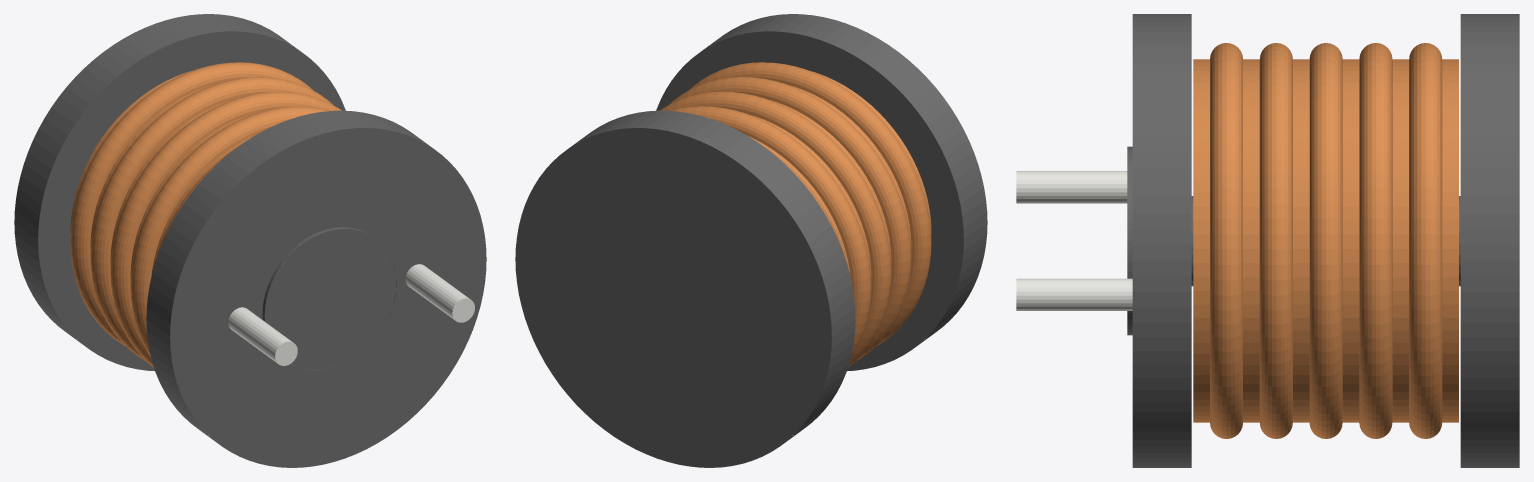
Rendered from L_Radial_D12.5mm_P7.00mm_Fastron_09HCP.glb.
3 views of the same model, side by side, from view 1: azimuth 30°, elevation 25°; view 2: azimuth 150°, elevation 25°; view 3: azimuth 270°, elevation 25° (orthographic). The views are drawn at different scales.
Parts seen in each view (by area): view 1: Shape_IndexedFaceSet.009, Shape_IndexedFaceSet.024, Shape_IndexedFaceSet.016, Shape_IndexedFaceSet.007, Shape_IndexedFaceSet.025, Shape_IndexedFaceSet.020, Shape_IndexedFaceSet.018, Shape_IndexedFaceSet.010, Shape_IndexedFaceSet.006, Shape_IndexedFaceSet.011, Shape_IndexedFaceSet.013, Shape_IndexedFaceSet.019 (+5 smaller); view 2: Shape_IndexedFaceSet.026, Shape_IndexedFaceSet.005, Shape_IndexedFaceSet.025, Shape_IndexedFaceSet.007, Shape_IndexedFaceSet.002, Shape_IndexedFaceSet.006, Shape_IndexedFaceSet.010, Shape_IndexedFaceSet.018, Shape_IndexedFaceSet.004, Shape_IndexedFaceSet.008, Shape_IndexedFaceSet.014, Shape_IndexedFaceSet (+1 smaller); view 3: Shape_IndexedFaceSet.007, Shape_IndexedFaceSet.025, Shape_IndexedFaceSet.010, Shape_IndexedFaceSet.006, Shape_IndexedFaceSet.018, Shape_IndexedFaceSet.020, Shape_IndexedFaceSet.002, Shape_IndexedFaceSet.014, Shape_IndexedFaceSet, Shape_IndexedFaceSet.004, Shape_IndexedFaceSet.008, Shape_IndexedFaceSet.019 (+4 smaller).
Boxes of the visible parts, left/top/right/bottom form: Shape_IndexedFaceSet.009: left=170, top=128, right=486, bottom=467; Shape_IndexedFaceSet.024: left=38, top=31, right=345, bottom=370; Shape_IndexedFaceSet.016: left=264, top=229, right=395, bottom=370; Shape_IndexedFaceSet.007: left=146, top=110, right=486, bottom=467; Shape_IndexedFaceSet.025: left=14, top=14, right=343, bottom=371; Shape_IndexedFaceSet.020: left=70, top=62, right=313, bottom=345; Shape_IndexedFaceSet.018: left=90, top=77, right=332, bottom=360; Shape_IndexedFaceSet.010: left=110, top=91, right=341, bottom=367; Shape_IndexedFaceSet.006: left=130, top=106, right=331, bottom=357; Shape_IndexedFaceSet.011: left=228, top=307, right=292, bottom=363; Shape_IndexedFaceSet.013: left=405, top=264, right=469, bottom=319; Shape_IndexedFaceSet.019: left=90, top=86, right=209, bottom=248; Shape_IndexedFaceSet.026: left=515, top=128, right=831, bottom=467; Shape_IndexedFaceSet.005: left=656, top=31, right=963, bottom=370; Shape_IndexedFaceSet.025: left=515, top=110, right=855, bottom=467; Shape_IndexedFaceSet.007: left=658, top=14, right=987, bottom=371; Shape_IndexedFaceSet.002: left=688, top=62, right=931, bottom=345; Shape_IndexedFaceSet.006: left=669, top=77, right=911, bottom=360; Shape_IndexedFaceSet.010: left=660, top=91, right=891, bottom=367; Shape_IndexedFaceSet.018: left=670, top=106, right=871, bottom=357; Shape_IndexedFaceSet.004: left=792, top=86, right=911, bottom=248; Shape_IndexedFaceSet.008: left=771, top=100, right=891, bottom=263; Shape_IndexedFaceSet.014: left=751, top=115, right=871, bottom=279; Shape_IndexedFaceSet: left=812, top=71, right=931, bottom=232; Shape_IndexedFaceSet.007: left=1132, top=14, right=1191, bottom=467; Shape_IndexedFaceSet.025: left=1460, top=14, right=1519, bottom=467; Shape_IndexedFaceSet.010: left=1309, top=43, right=1342, bottom=438; Shape_IndexedFaceSet.006: left=1259, top=43, right=1292, bottom=438; Shape_IndexedFaceSet.018: left=1359, top=43, right=1392, bottom=438; Shape_IndexedFaceSet.020: left=1409, top=43, right=1442, bottom=438; Shape_IndexedFaceSet.002: left=1210, top=43, right=1242, bottom=438; Shape_IndexedFaceSet.014: left=1342, top=59, right=1359, bottom=422; Shape_IndexedFaceSet: left=1193, top=59, right=1209, bottom=422; Shape_IndexedFaceSet.004: left=1243, top=59, right=1259, bottom=422; Shape_IndexedFaceSet.008: left=1293, top=59, right=1309, bottom=422; Shape_IndexedFaceSet.019: left=1392, top=59, right=1408, bottom=422.
Size of the model in its own units: 4.92 by 4.92 by 5.45.
